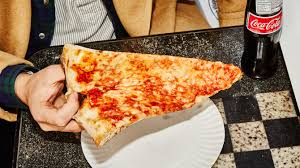pizza: (56, 34, 250, 148)
